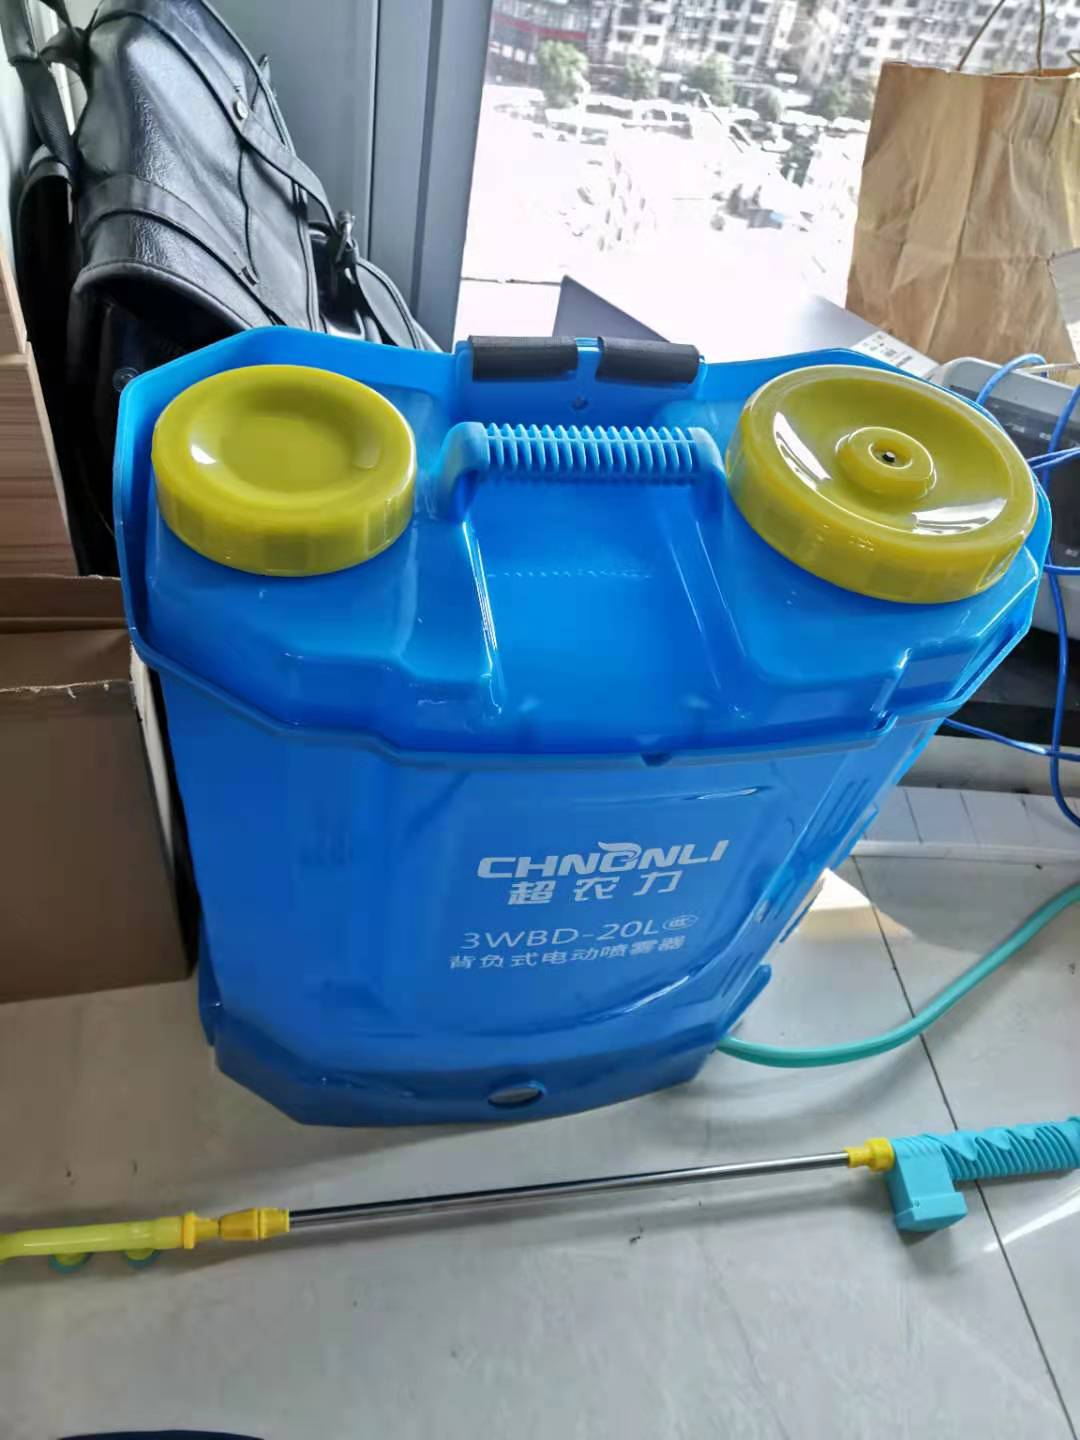berrl: (79, 310, 1054, 1130)
